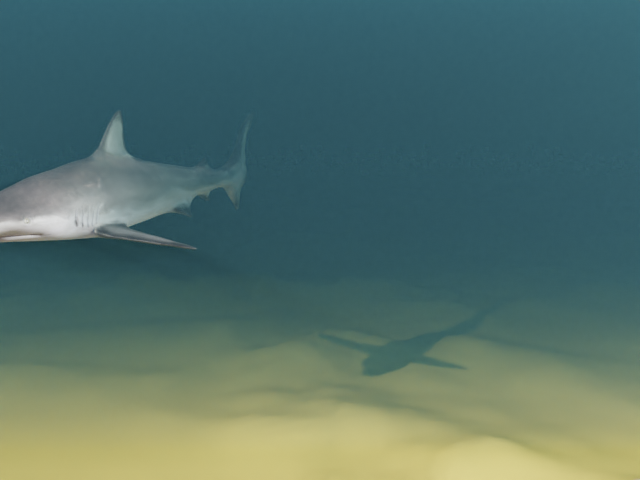Carribean Shark.001: (0, 109, 254, 249)
